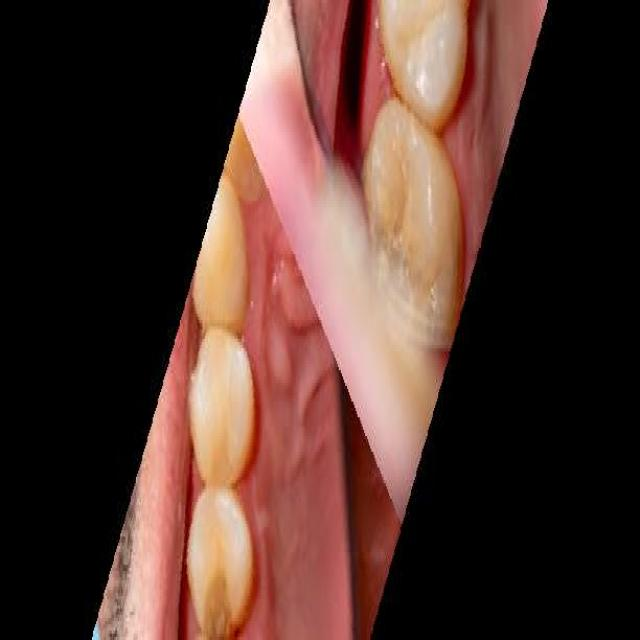caries: (190, 539, 243, 640)
